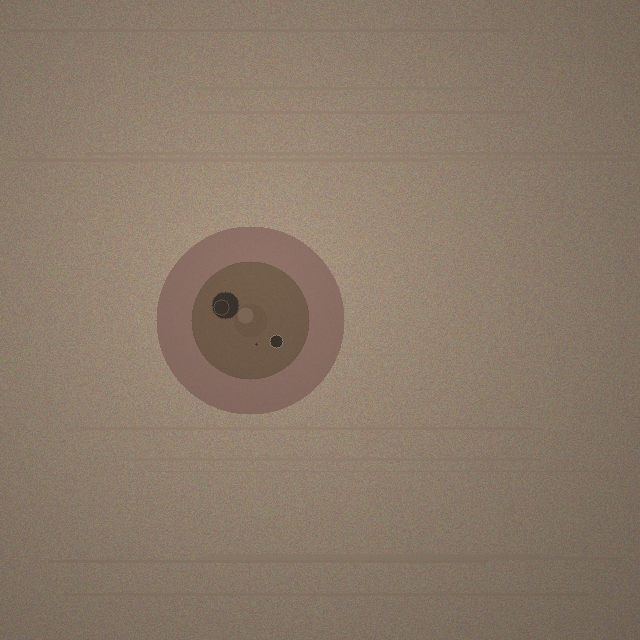shrinkage: (156, 226, 344, 414)
